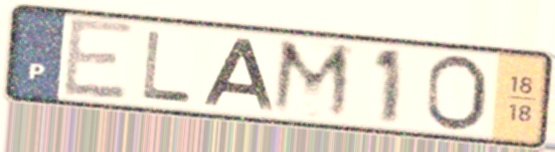1: (370, 47, 408, 126)
A: (200, 35, 278, 114)
E: (59, 14, 137, 102)
L: (140, 28, 195, 106)
M: (267, 35, 357, 124)
O: (421, 52, 490, 134)
